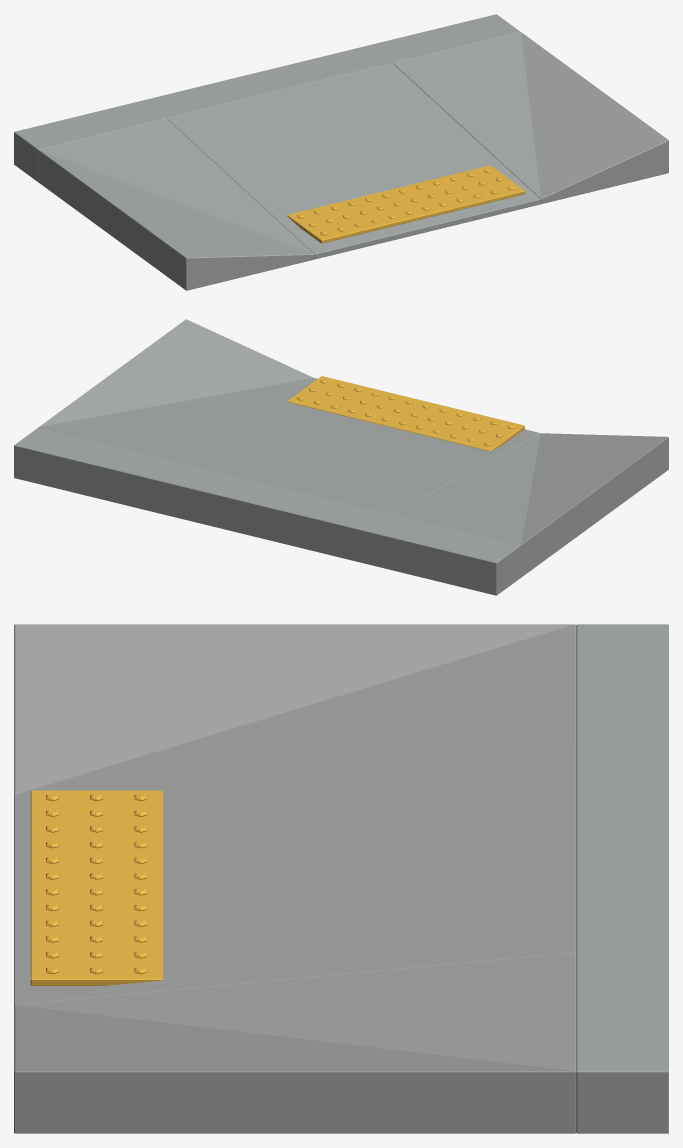
File: b13_flared_accessible_curb_ramp.glb
The picture shows the model from 3 angles, top to bottom: view 1: azimuth 30°, elevation 25°; view 2: azimuth 150°, elevation 25°; view 3: azimuth 270°, elevation 25°; orthographic projection. The views are drawn at different scales.
Visible parts, largest first — view 1: b13_flared_accessible_curb_ramp; view 2: b13_flared_accessible_curb_ramp; view 3: b13_flared_accessible_curb_ramp.
Boxes of the visible parts, x1=… form: b13_flared_accessible_curb_ramp: x1=14, y1=14, x2=668, y2=290; b13_flared_accessible_curb_ramp: x1=14, y1=319, x2=668, y2=595; b13_flared_accessible_curb_ramp: x1=14, y1=624, x2=668, y2=1133.
Bounding box in the file's own units: 3.2 × 0.21 × 1.98.
